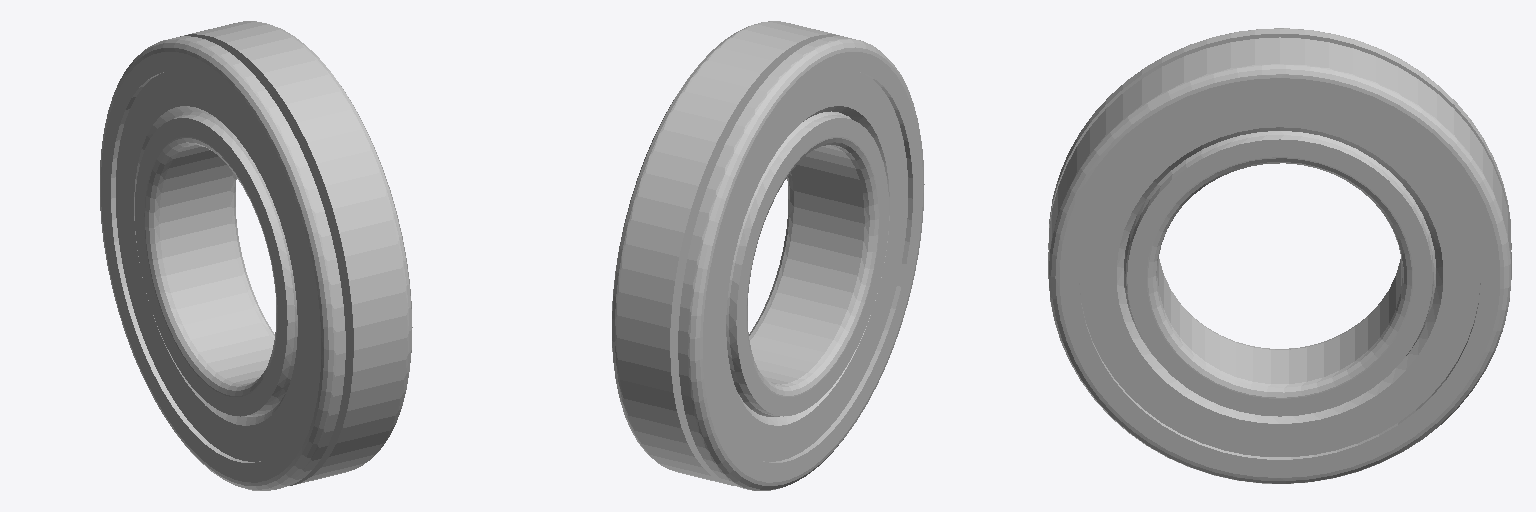
The model's file is Подшипник 180209 ГОСТ 8882-75.obj.
3 renders of one model, left to right at view 1: azimuth 30°, elevation 25°; view 2: azimuth 150°, elevation 25°; view 3: azimuth 270°, elevation 25°, orthographic.
Parts seen in each view (by area): view 1: Solid1; view 2: Solid1; view 3: Solid1.
Boxes of the visible parts, x1,y1,x2,y2 form: Solid1: [100, 21, 412, 490]; Solid1: [612, 21, 924, 490]; Solid1: [1048, 28, 1511, 483].
Bounding box in the file's own units: 19 × 84.94 × 84.97.